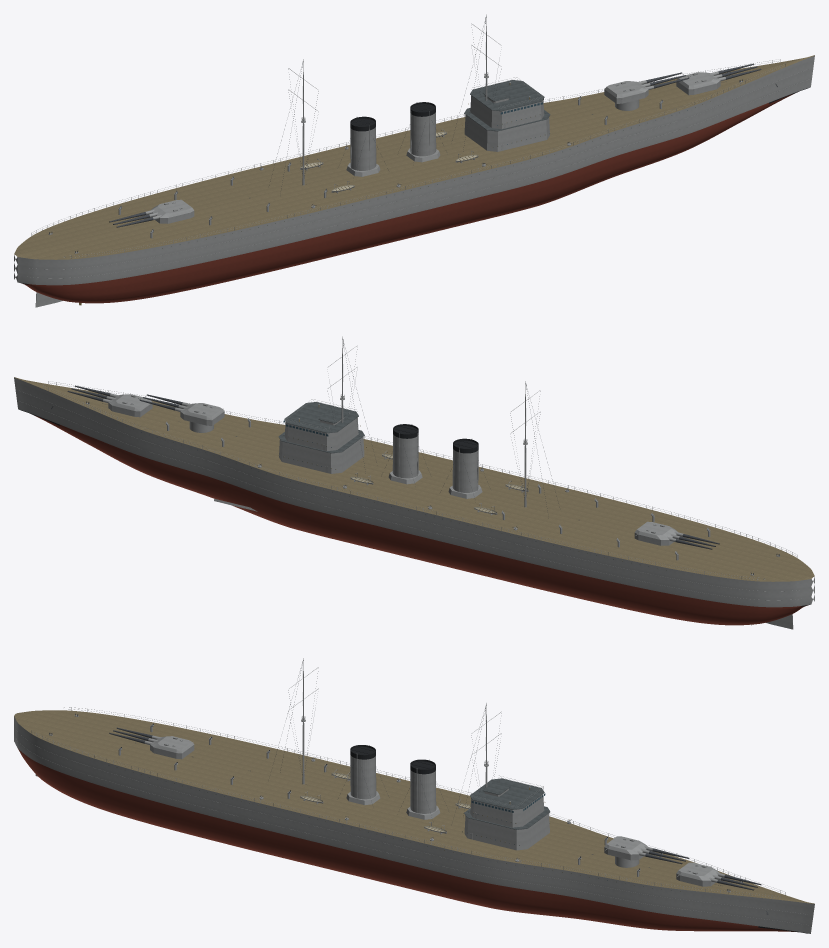
Rendered from mare_bb38.glb.
3 renders of one model, top to bottom at view 1: azimuth 30°, elevation 25°; view 2: azimuth 150°, elevation 25°; view 3: azimuth 330°, elevation 25°, orthographic.
Parts seen in each view (by area): view 1: Impero improved battleship; view 2: Impero improved battleship; view 3: Impero improved battleship.
Boxes of the visible parts, x1,y1,x2,y2 form: Impero improved battleship: [14, 14, 814, 307]; Impero improved battleship: [14, 336, 814, 629]; Impero improved battleship: [14, 658, 814, 933].
Bounding box in the file's own units: 245 × 54.43 × 32.09.
9 materials, 8 textured.
